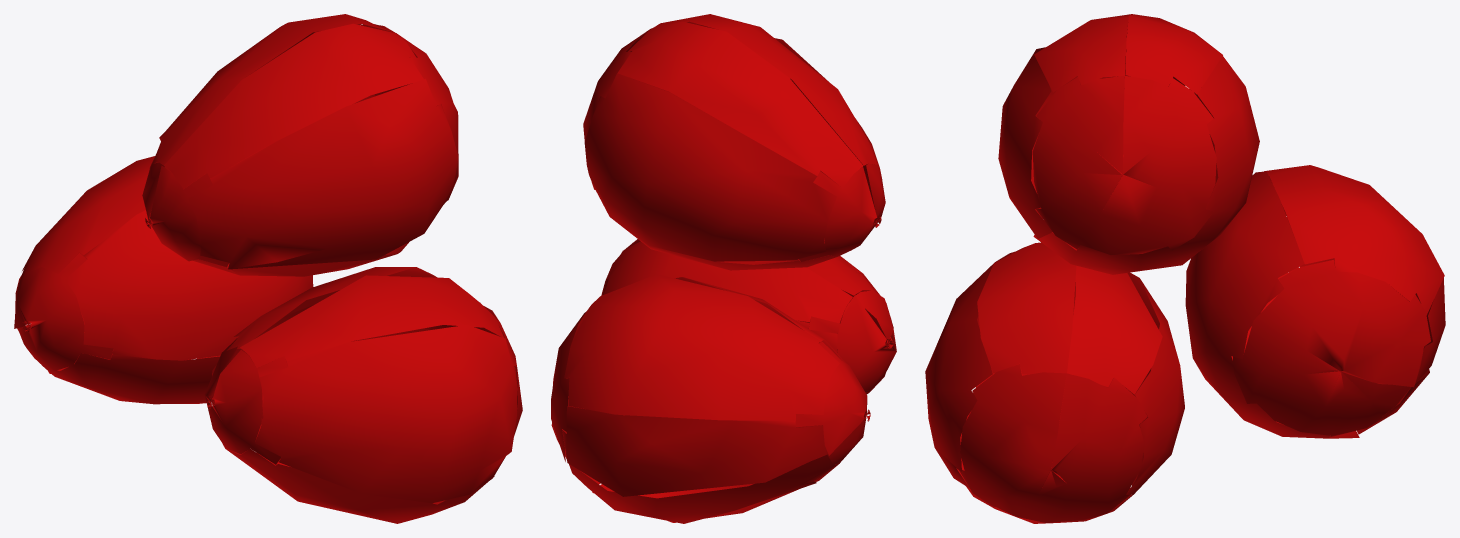
The model's file is balloon.glb.
The picture shows the model from 3 angles, left to right: view 1: azimuth 30°, elevation 25°; view 2: azimuth 150°, elevation 25°; view 3: azimuth 270°, elevation 25°; orthographic projection. The views are drawn at different scales.
Visible parts, largest first — view 1: Tip; view 2: Tip; view 3: Tip.
Boxes of the visible parts, x1=… form: Tip: x1=14, y1=14, x2=522, y2=523; Tip: x1=551, y1=14, x2=896, y2=523; Tip: x1=925, y1=14, x2=1445, y2=523.
Bounding box in the file's own units: 1.06 × 1.25 × 1.25.
1 material, 1 textured.
